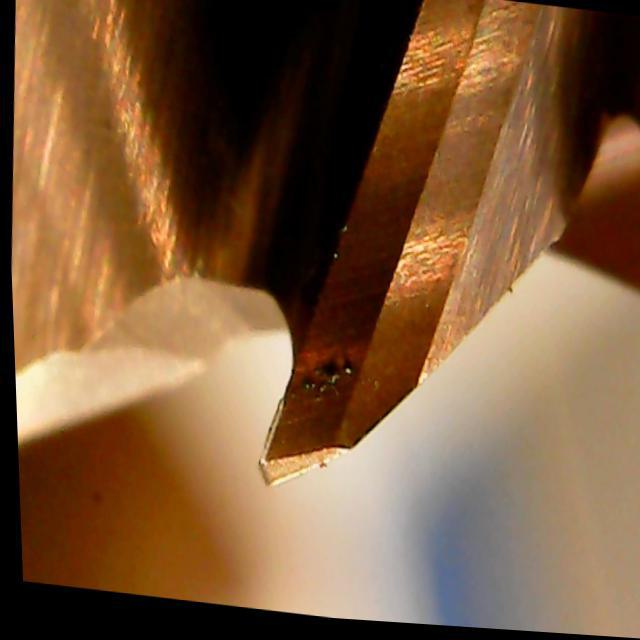Tool-wear-class-0: (245, 259, 431, 509)
